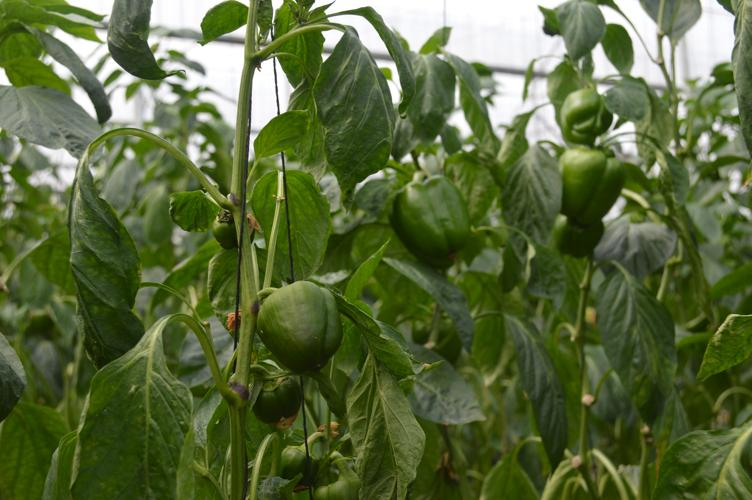BellPepper: (253, 282, 344, 371), (391, 175, 470, 266), (554, 147, 627, 222), (248, 371, 305, 426), (557, 90, 614, 141), (554, 219, 605, 258), (276, 449, 313, 485)
